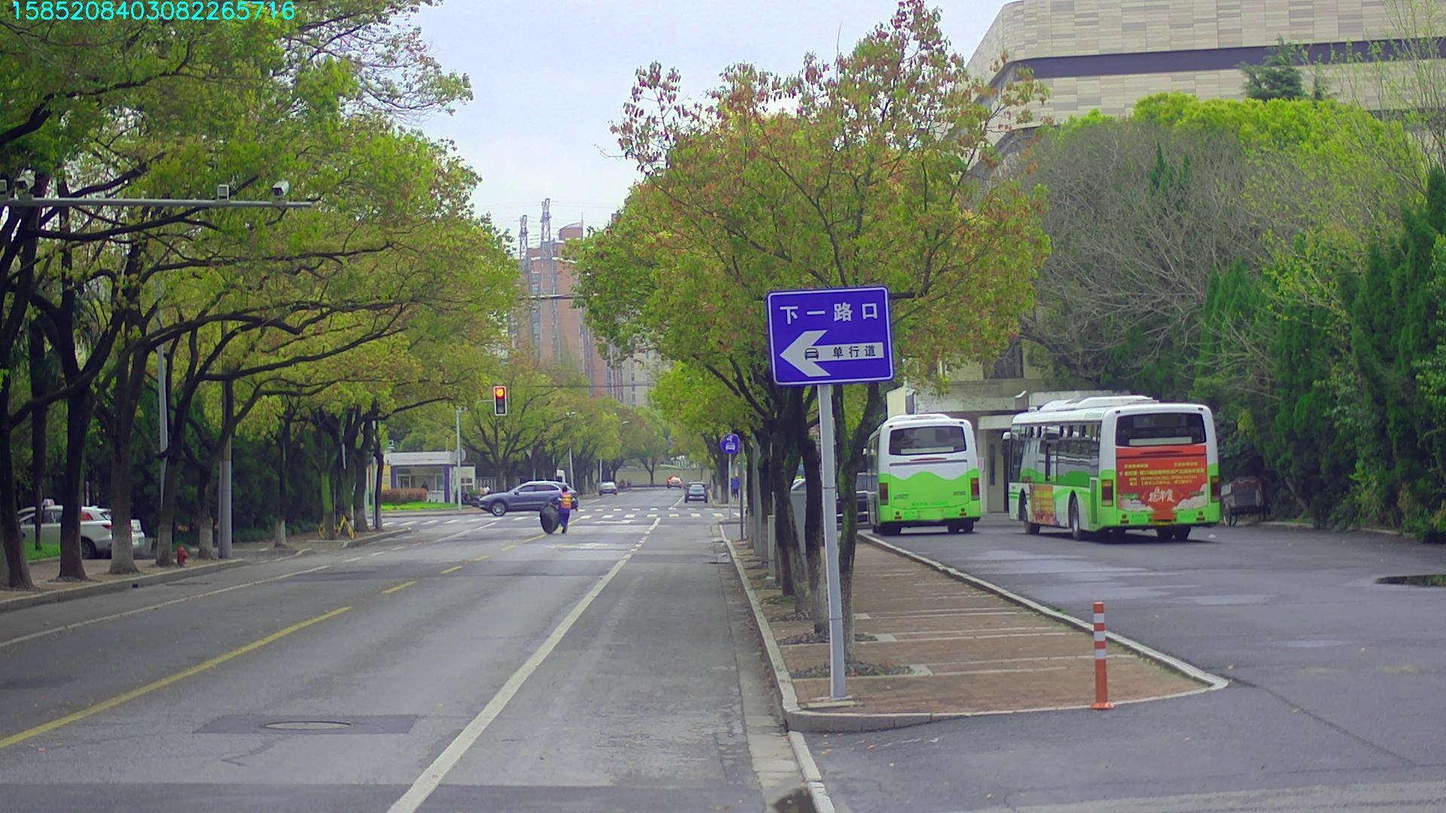red: (494, 387, 505, 414)
